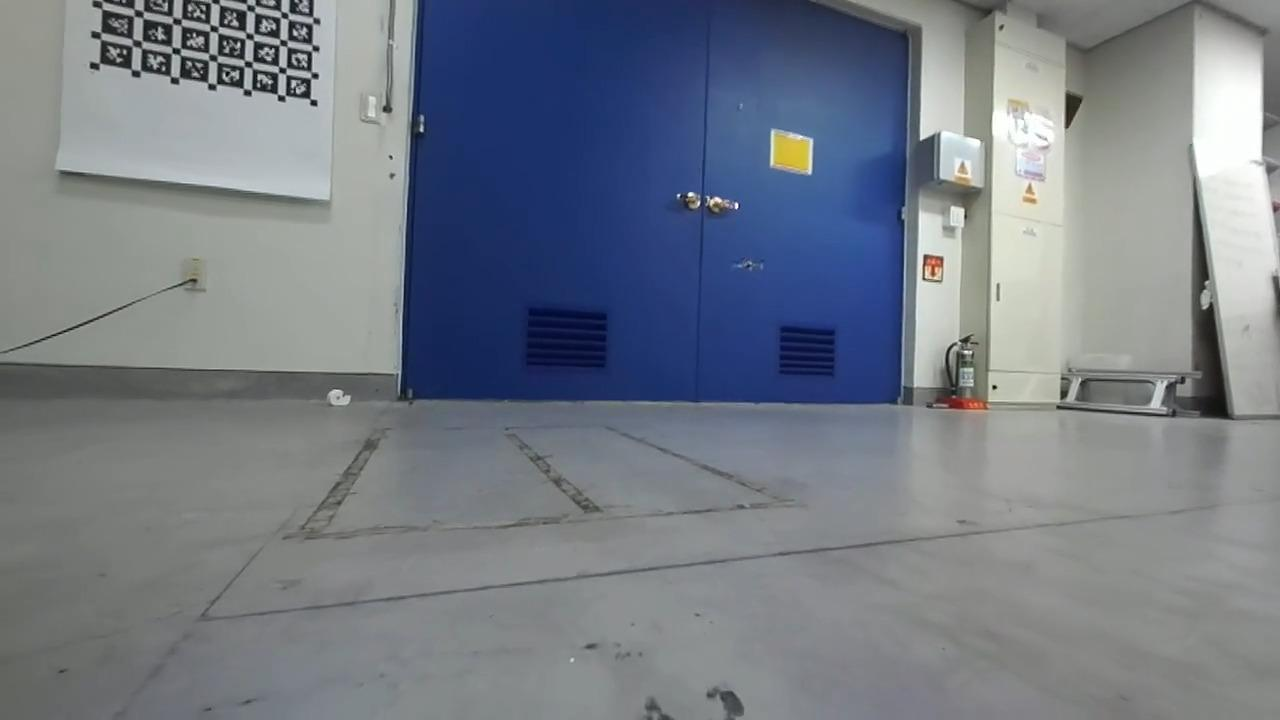crazyflie: (724, 253, 770, 277)
